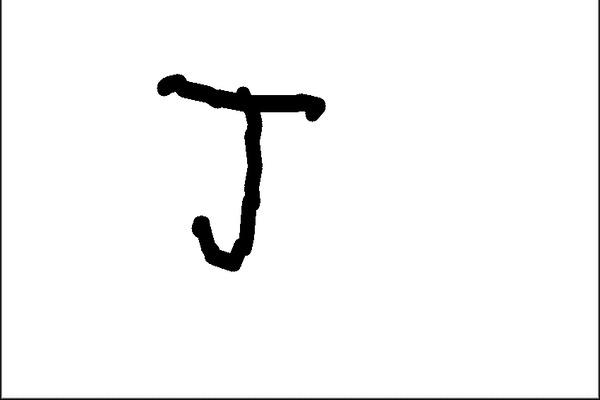J: (148, 66, 330, 277)
